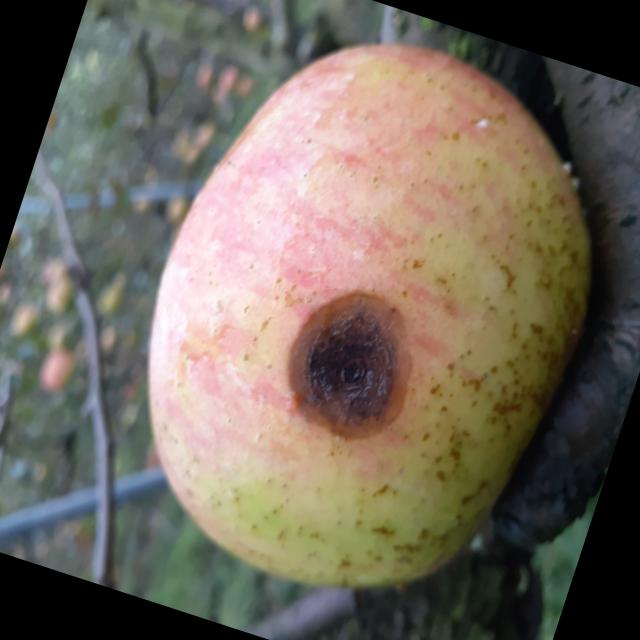rotten: (66, 1, 640, 640)
